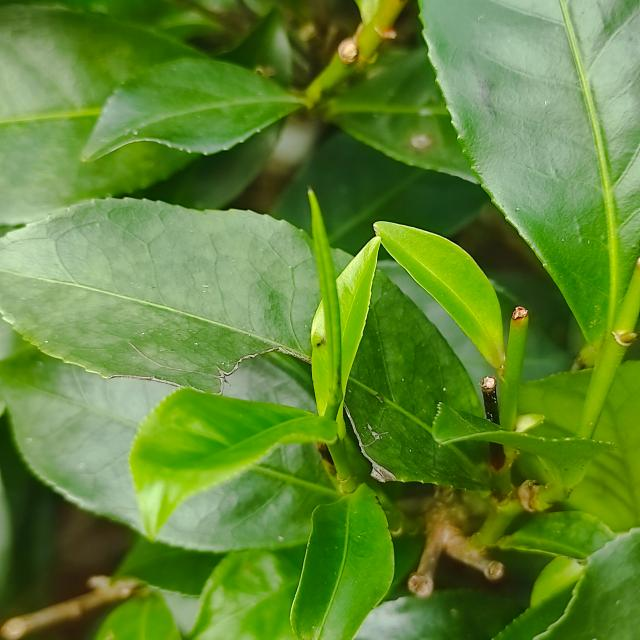unopened_leaf: (302, 172, 352, 404)
